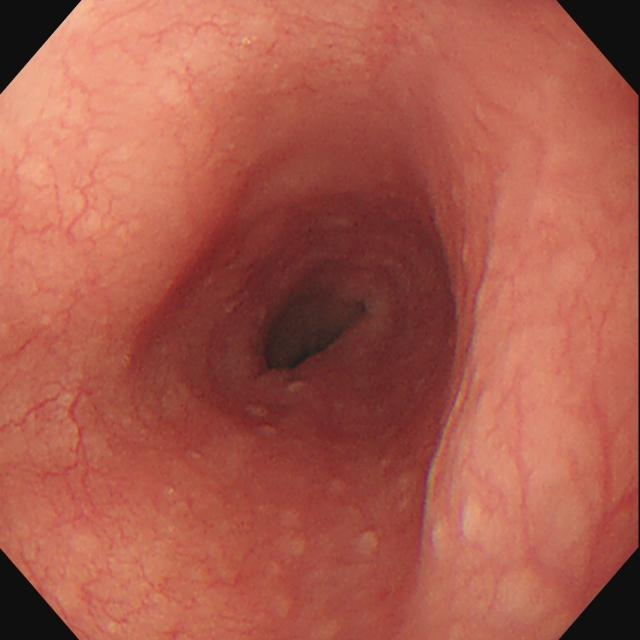E: (266, 288, 364, 371)
